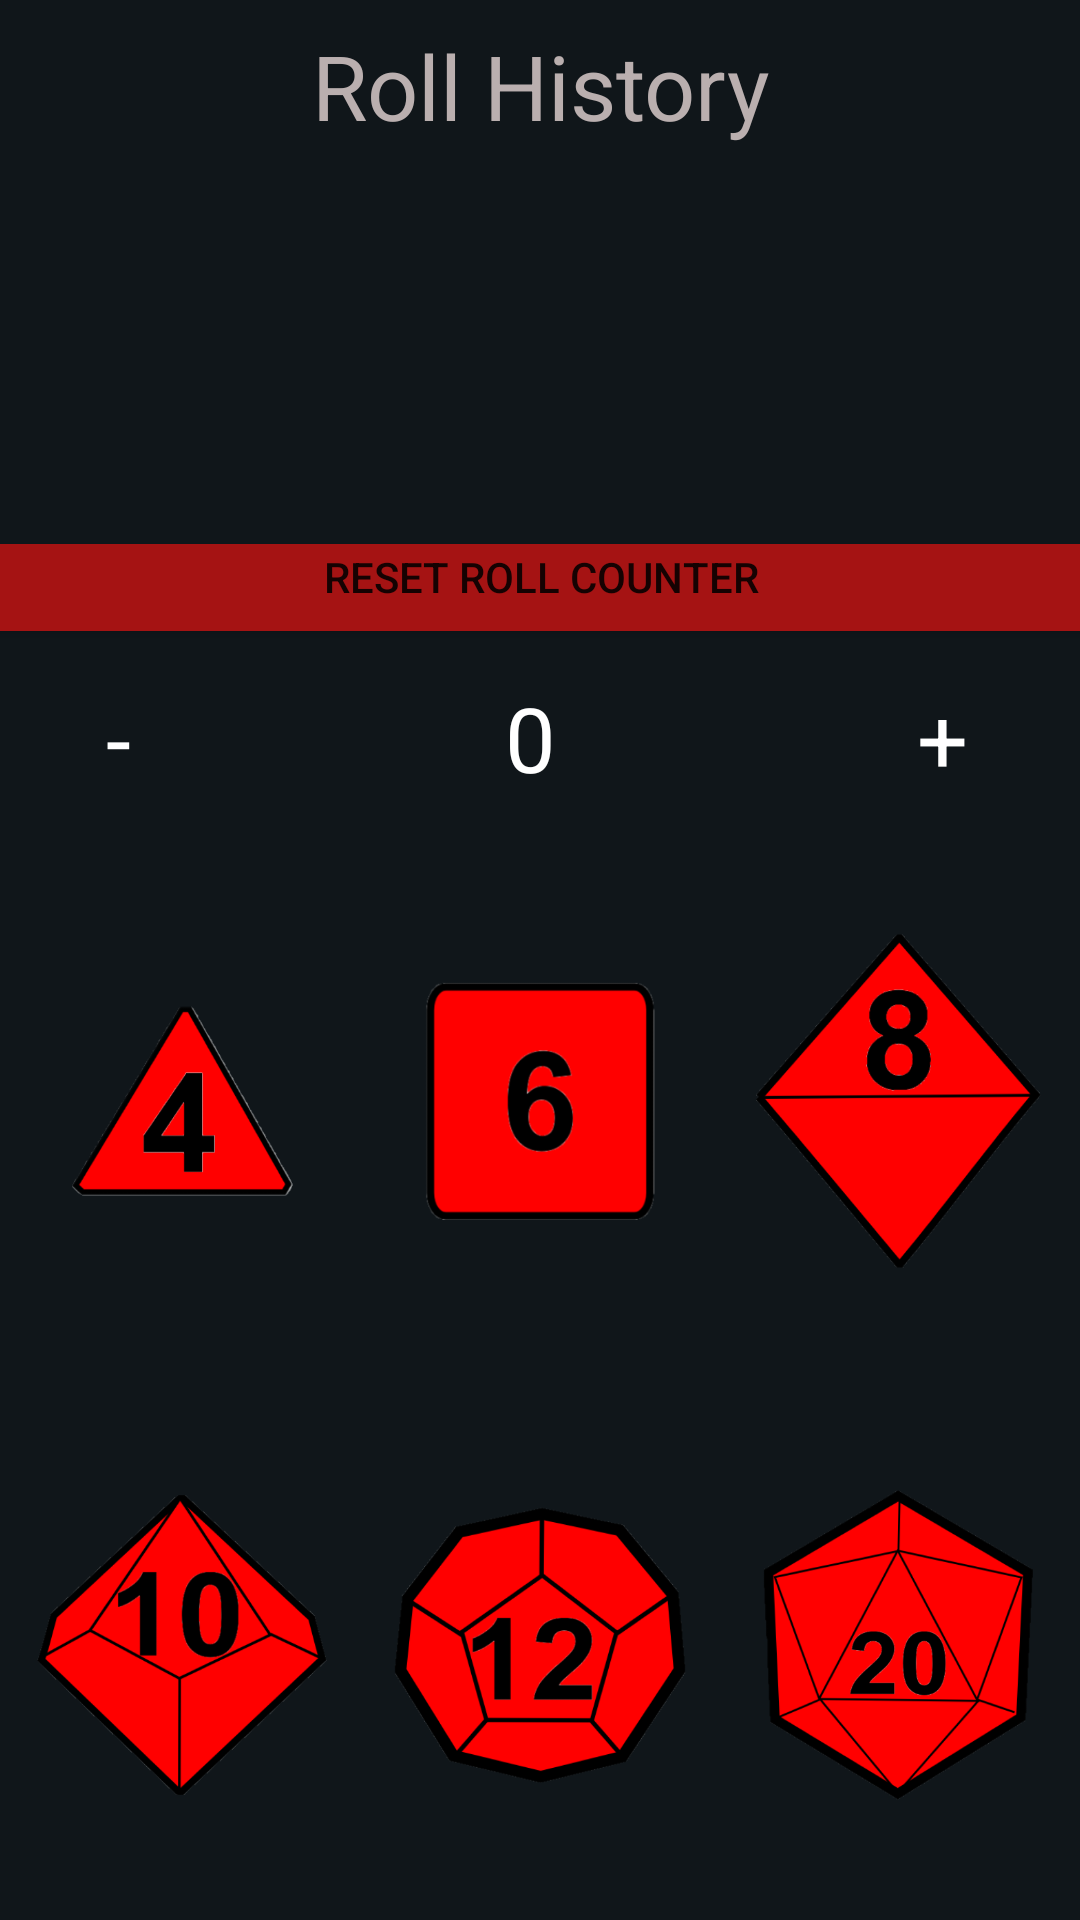

Screen size 1080 × 1920. Icon name, then its center in pixels as (x,y):
a d4 dice: (182,1101)
